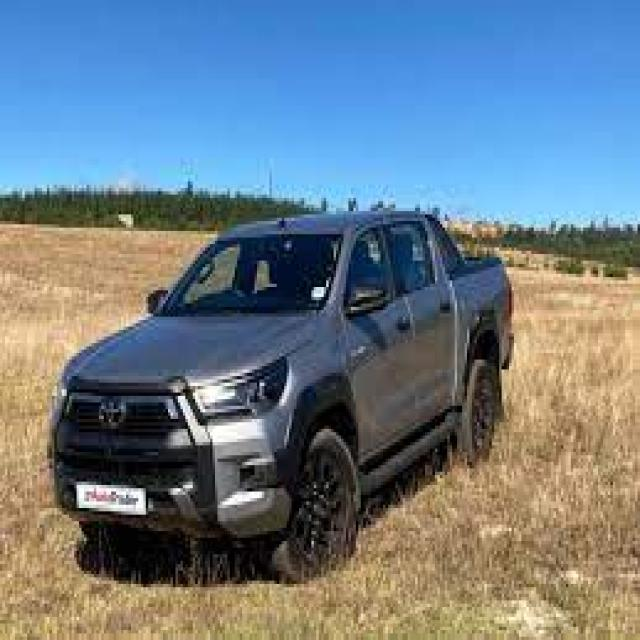Pickup Trucks: (47, 214, 516, 590)
